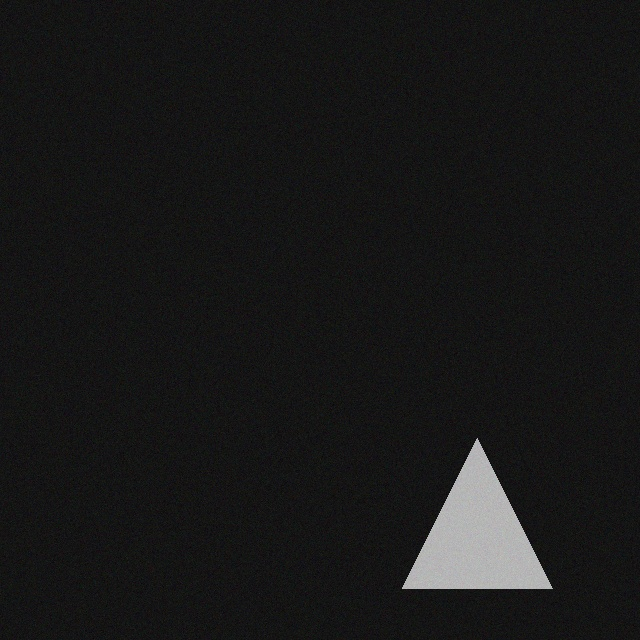triangle: (413, 439, 563, 589)
